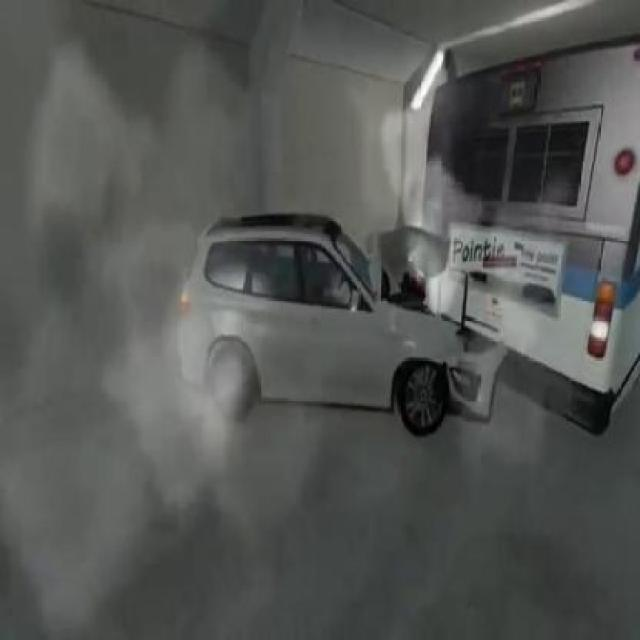accident: (175, 12, 640, 460)
